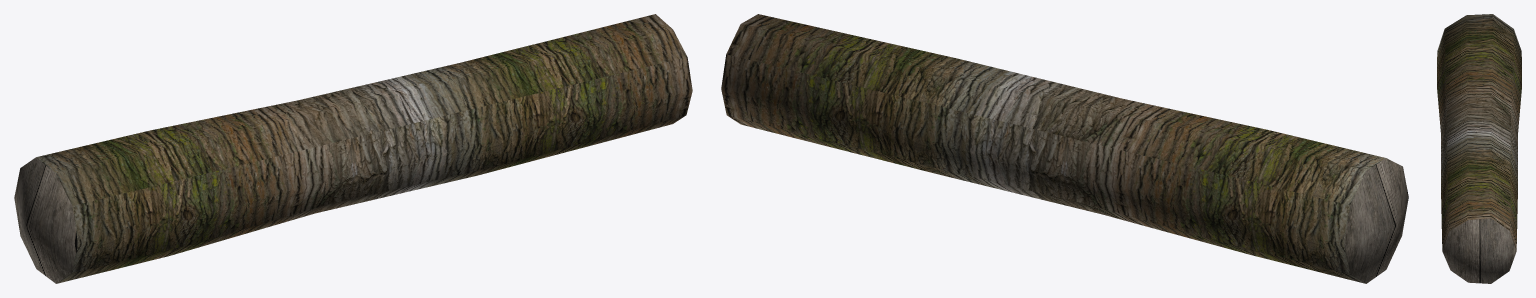
The model's file is Prop_FallenLog.fbx.
The picture shows the model from 3 angles, left to right: view 1: azimuth 30°, elevation 25°; view 2: azimuth 150°, elevation 25°; view 3: azimuth 270°, elevation 25°; orthographic projection. The views are drawn at different scales.
Parts seen in each view (by area): view 1: FallenLog_Mesh; view 2: FallenLog_Mesh; view 3: FallenLog_Mesh.
Boxes of the visible parts, x1=… form: FallenLog_Mesh: x1=14, y1=14, x2=692, y2=283; FallenLog_Mesh: x1=721, y1=14, x2=1408, y2=283; FallenLog_Mesh: x1=1437, y1=14, x2=1521, y2=283.
Size of the model in its own units: 2.02 by 0.329 by 0.3411.
2 materials, 2 textured.
